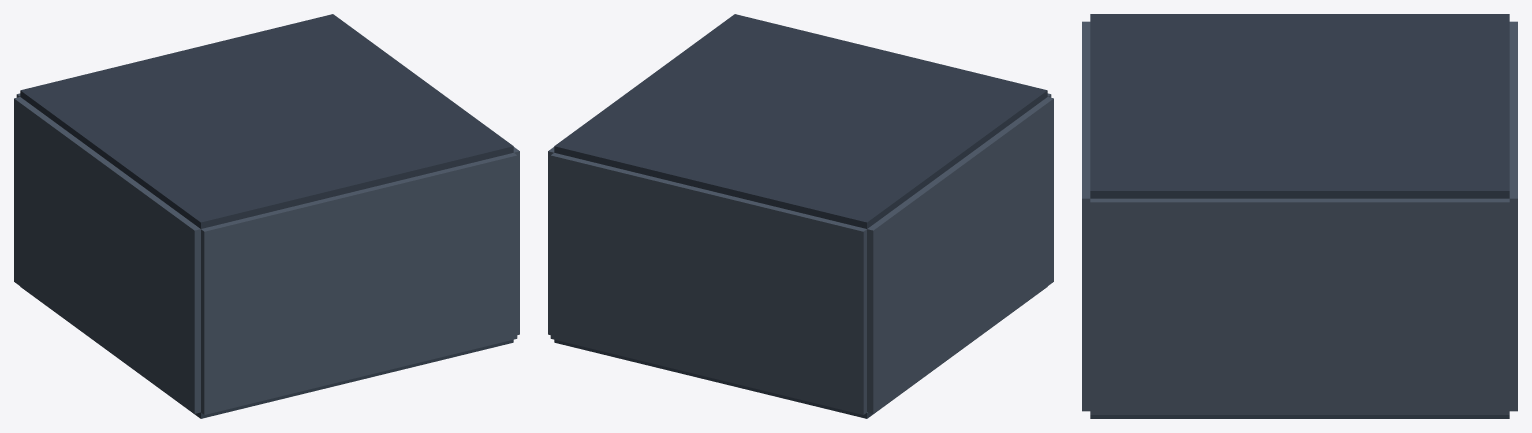
Rendered from sala_visor.glb.
The picture shows the model from 3 angles, left to right: view 1: azimuth 30°, elevation 25°; view 2: azimuth 150°, elevation 25°; view 3: azimuth 270°, elevation 25°; orthographic projection. The views are drawn at different scales.
Parts seen in each view (by area): view 1: Paredes, Teto, Chao; view 2: Paredes, Teto, Chao; view 3: Paredes, Teto, Chao.
Boxes of the visible parts, bbox=[...] form: Paredes: bbox=[14, 93, 519, 414]; Teto: bbox=[20, 14, 513, 228]; Chao: bbox=[20, 286, 513, 418]; Paredes: bbox=[548, 93, 1053, 414]; Teto: bbox=[554, 14, 1047, 228]; Chao: bbox=[554, 286, 1047, 418]; Paredes: bbox=[1082, 21, 1517, 414]; Teto: bbox=[1090, 14, 1509, 198]; Chao: bbox=[1090, 415, 1509, 418].
Size of the model in its own units: 5.2 by 3 by 5.2.
